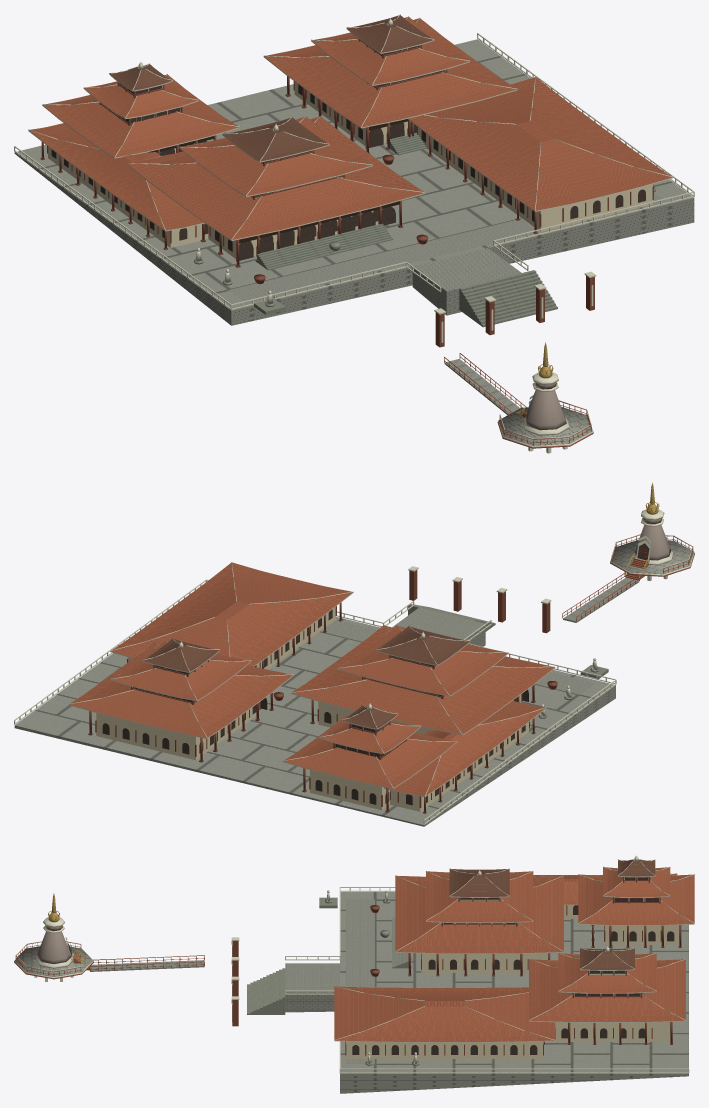
File: phat-lon.glb
The picture shows the model from 3 angles, top to bottom: view 1: azimuth 30°, elevation 25°; view 2: azimuth 150°, elevation 25°; view 3: azimuth 270°, elevation 25°; orthographic projection. The views are drawn at different scales.
Visible parts, largest first — view 1: phat-lon-near; view 2: phat-lon-near; view 3: phat-lon-near.
Boxes of the visible parts, left/top/right/bottom form: phat-lon-near: left=14, top=14, right=694, bottom=453; phat-lon-near: left=14, top=482, right=694, bottom=826; phat-lon-near: left=14, top=855, right=694, bottom=1093.
Size of the model in its own units: 74.15 by 19.32 by 117.
Materials: 1 (1 with a texture image).
